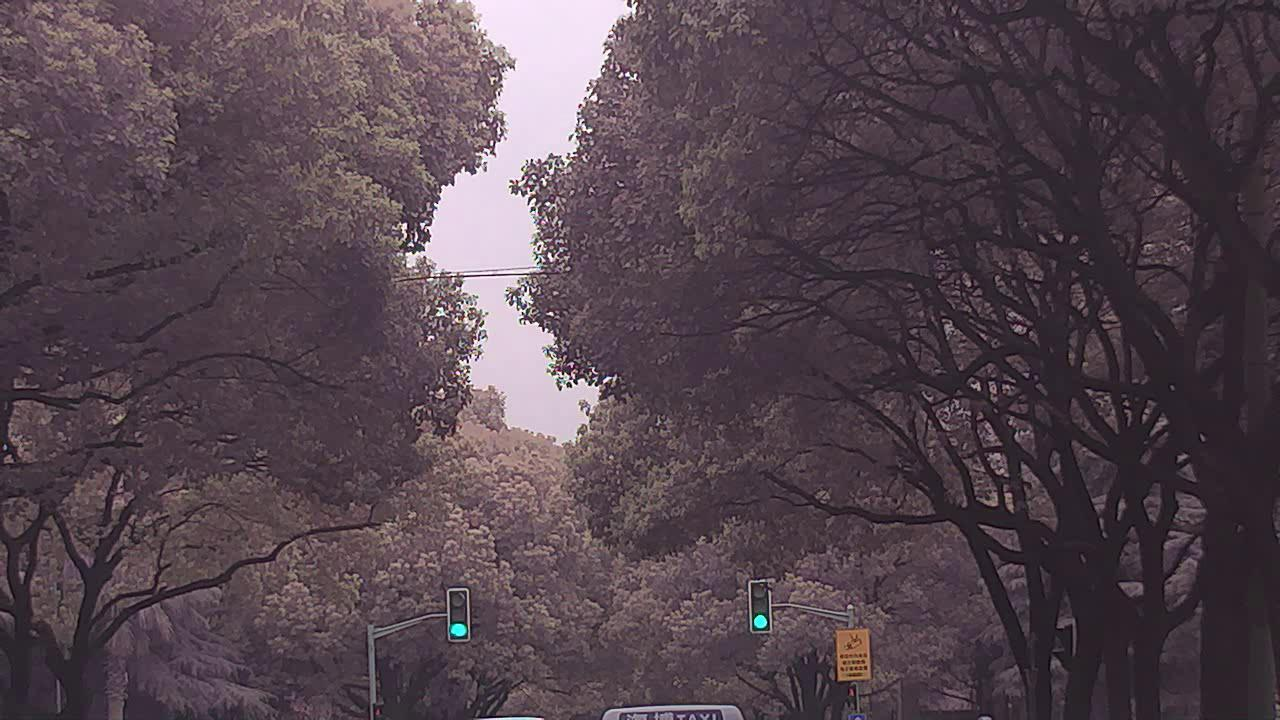traffic_light: (747, 581, 771, 629), (451, 586, 472, 639)
